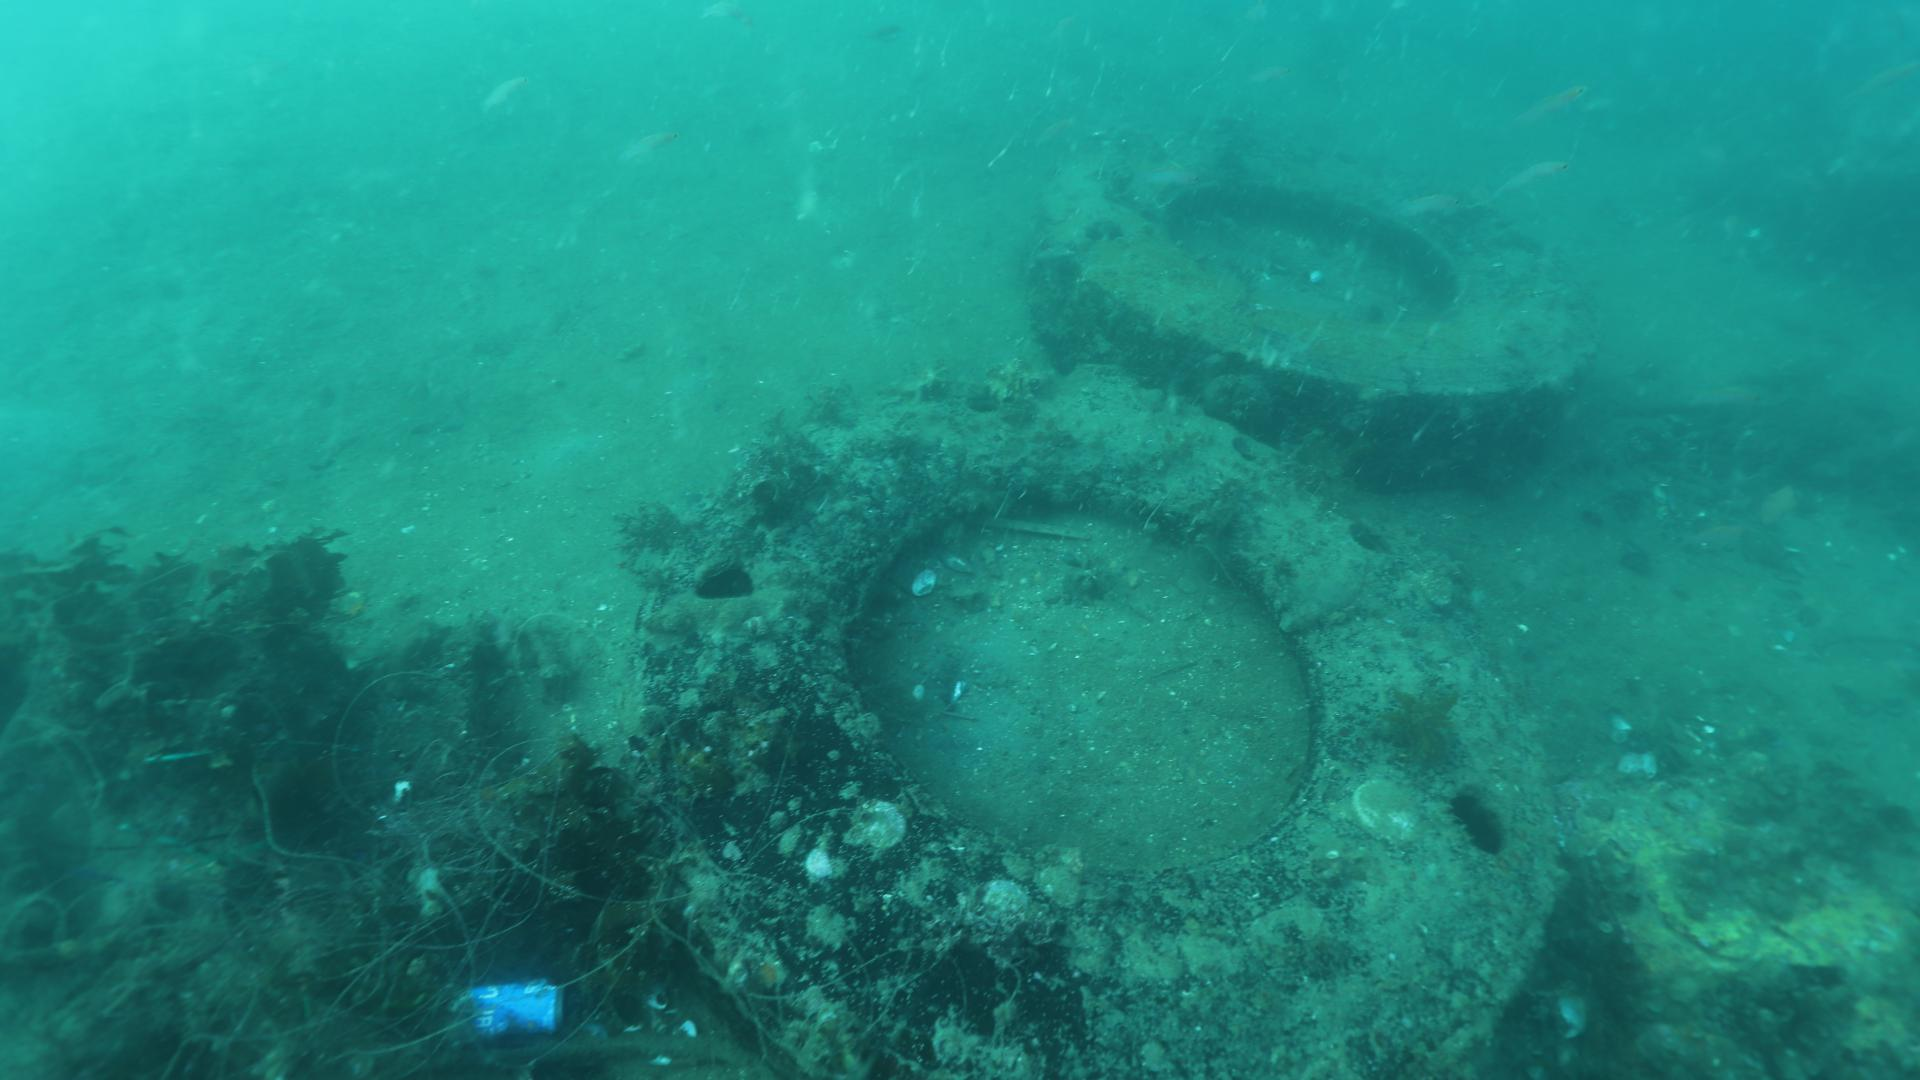tire: (626, 368, 1559, 1073), (1040, 128, 1596, 476)
